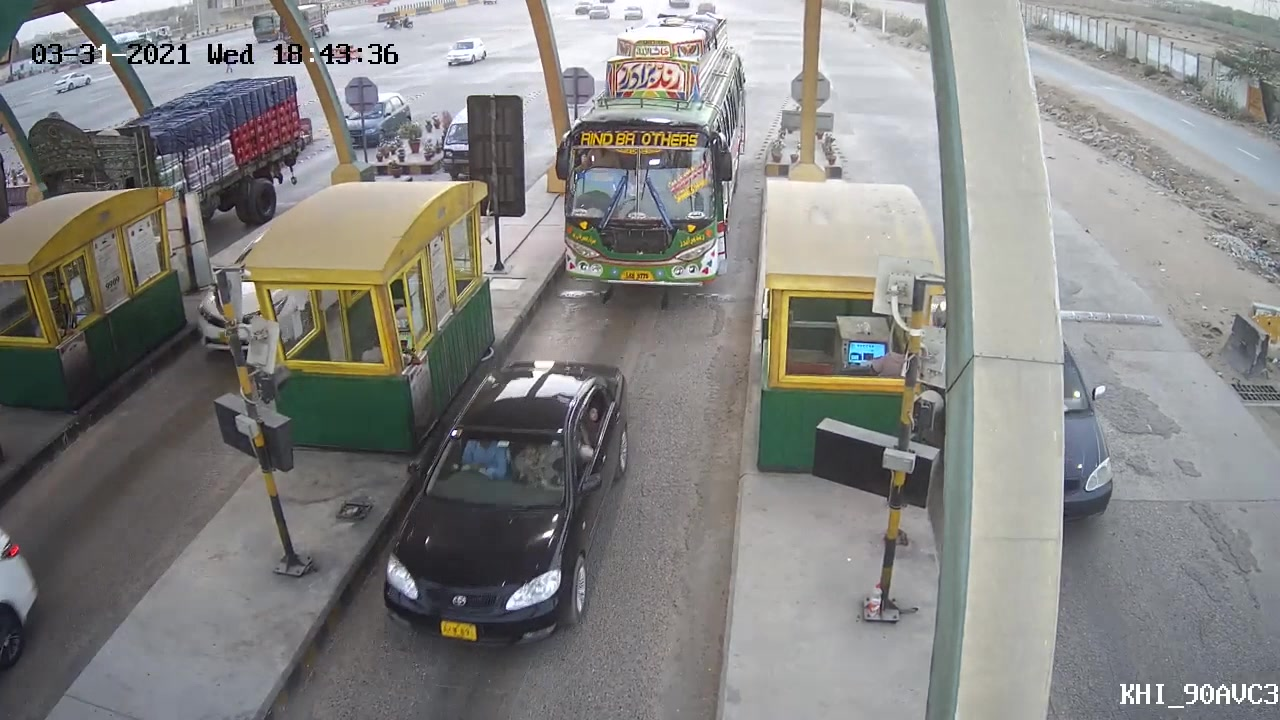F1: (374, 358, 640, 661)
F4: (548, 17, 750, 300)
